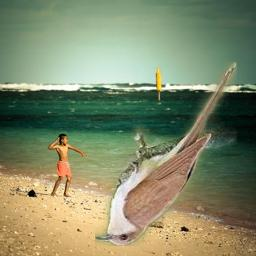Cuckoo: (95, 62, 237, 246)
